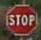stop: (4, 3, 37, 35)
